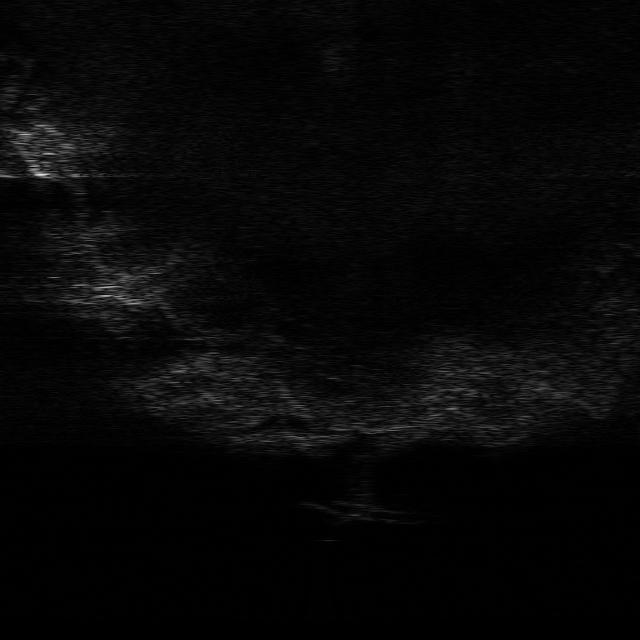plane: (301, 500, 414, 526)
